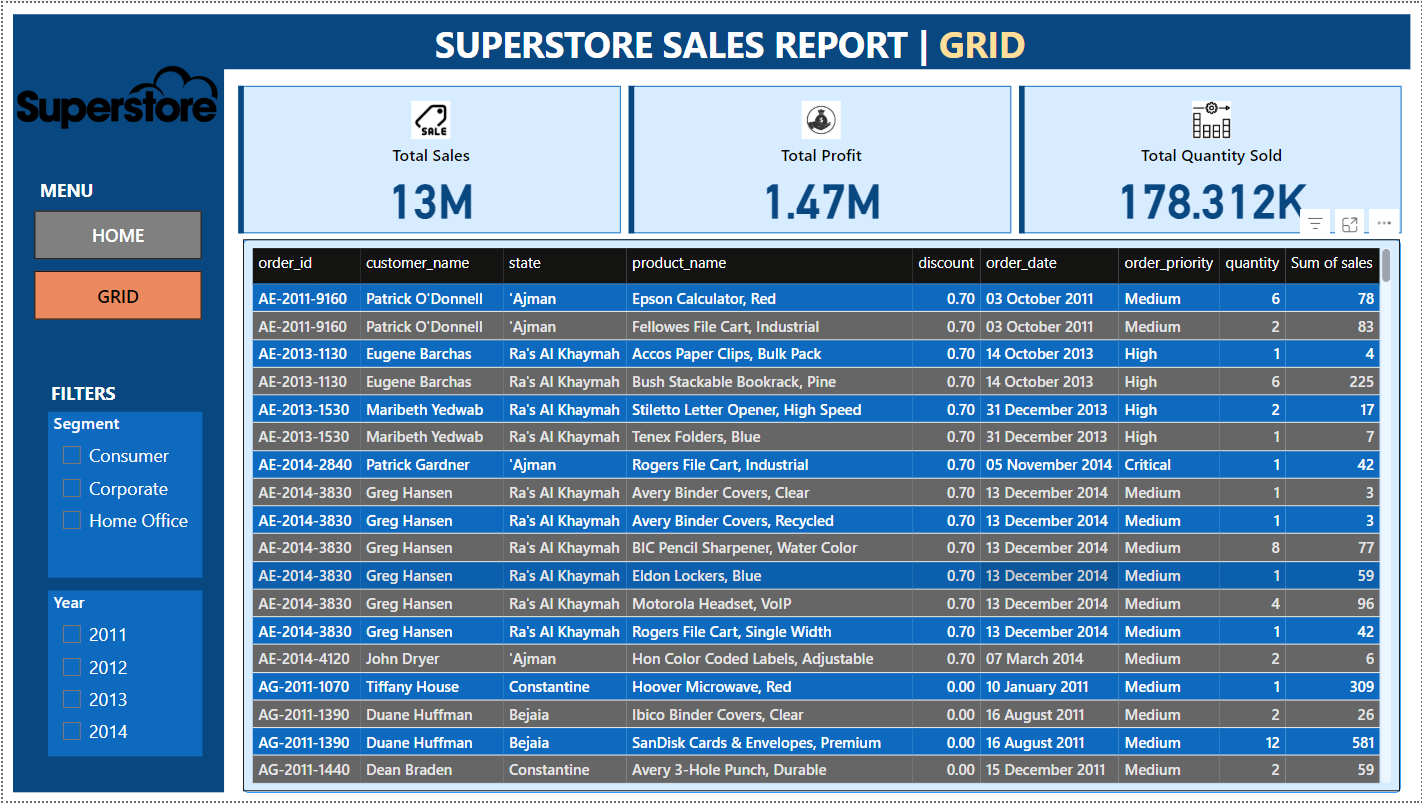

Layout of this report page (visuals, bound fields, positions):
{"tool":"powerbi","page":{"name":"GRID","canvas":[1280,720],"ordinal":1},"visuals":[{"type":"shape","box":[8.7,10,1260.1,49.8],"z":0},{"type":"shape","box":[8.7,46,190.3,665.5],"z":1000},{"type":"cardVisual","fields":{"Data":["SuperStoreOrders.Total Sales","SuperStoreOrders.Total Profit","SuperStoreOrders.Total Quantity Sold"]},"box":[207.7,69.7,1061.1,143.1],"z":2000},{"type":"textbox","box":[384.4,10,610.8,65.9],"z":3000},{"type":"slicer","title":"Year","fields":{"Values":["Date Table.Year"]},"box":[41.1,529.9,139.3,149.3],"z":4000},{"type":"slicer","title":"Segment","fields":{"Values":["SuperStoreOrders.segment"]},"box":[41.1,368.2,139.3,149.3],"z":5000},{"type":"image","box":[7.5,43.5,190.3,82.1],"z":6000},{"type":"tableEx","fields":{"Values":["SuperStoreOrders.order_id","SuperStoreOrders.customer_name","SuperStoreOrders.state","SuperStoreOrders.product_name","SuperStoreOrders.discount","SuperStoreOrders.order_date","SuperStoreOrders.order_priority","SuperStoreOrders.quantity","SuperStoreOrders.sales"]},"box":[216.4,212.7,1043.7,498.8],"z":7000},{"type":"pageNavigator","box":[28.6,186.6,151.8,98.3],"z":8000},{"type":"textbox","box":[28.6,151.8,151.8,34.8],"z":9000},{"type":"textbox","box":[38.6,335.9,151.8,32.3],"z":10000}]}

Visuals, with their boxes in screenshot pixels (x1, y1, x2, y2), scaled from the page's 1280x720 canvas onto the 1422x806 screenshot:
shape: 10,11,1410,67
shape: 10,51,221,796
cardVisual - SuperStoreOrders.Total Sales x SuperStoreOrders.Total Profit: 231,78,1410,238
textbox: 427,11,1106,85
"Year" slicer: 46,593,200,760
"Segment" slicer: 46,412,200,579
image: 8,49,220,141
tableEx - SuperStoreOrders.order_id x SuperStoreOrders.customer_name: 240,238,1400,796
pageNavigator: 32,209,200,319
textbox: 32,170,200,209
textbox: 43,376,212,412
